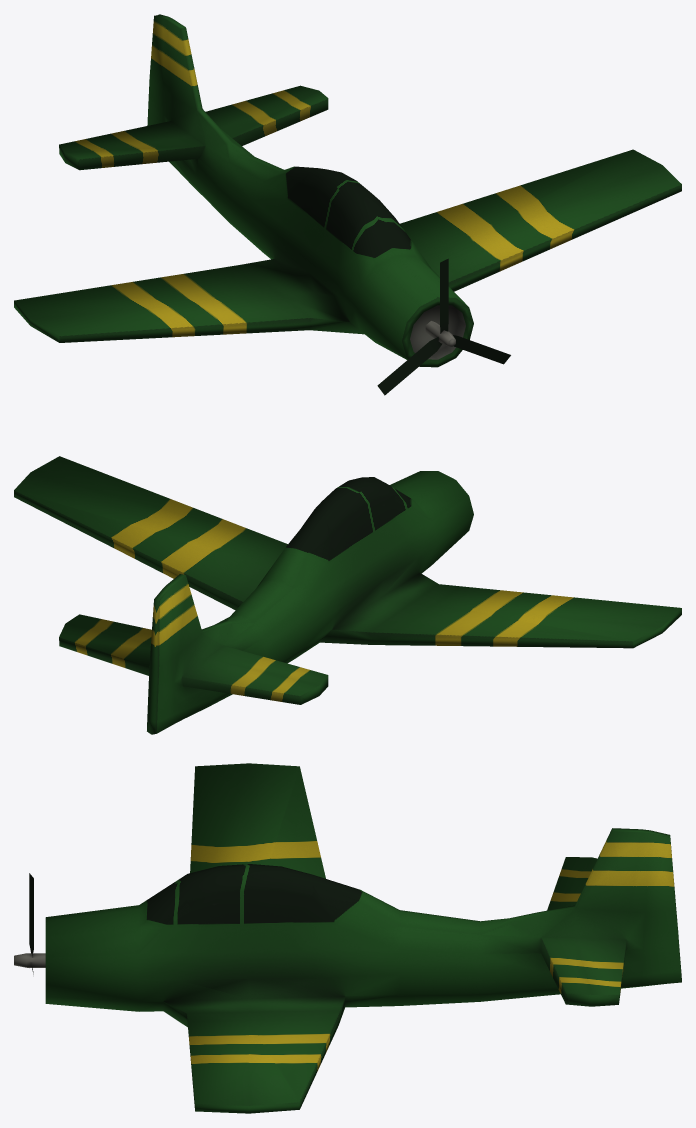
Rendered from Aeroplane.glb.
3 views of the same model, one above another, from view 1: azimuth 30°, elevation 25°; view 2: azimuth 150°, elevation 25°; view 3: azimuth 270°, elevation 25° (orthographic). The views are drawn at different scales.
Visible parts, largest first — view 1: Cylinder.001_Cylinder.002; view 2: Cylinder.001_Cylinder.002; view 3: Cylinder.001_Cylinder.002.
Part boxes in pixels (left/top/right/bottom): Cylinder.001_Cylinder.002: left=14, top=14, right=681, bottom=395; Cylinder.001_Cylinder.002: left=14, top=456, right=681, bottom=734; Cylinder.001_Cylinder.002: left=14, top=763, right=681, bottom=1113.
Size of the model in its own units: 7.83 by 1.91 by 6.45.
Materials: 1 (1 with a texture image).
